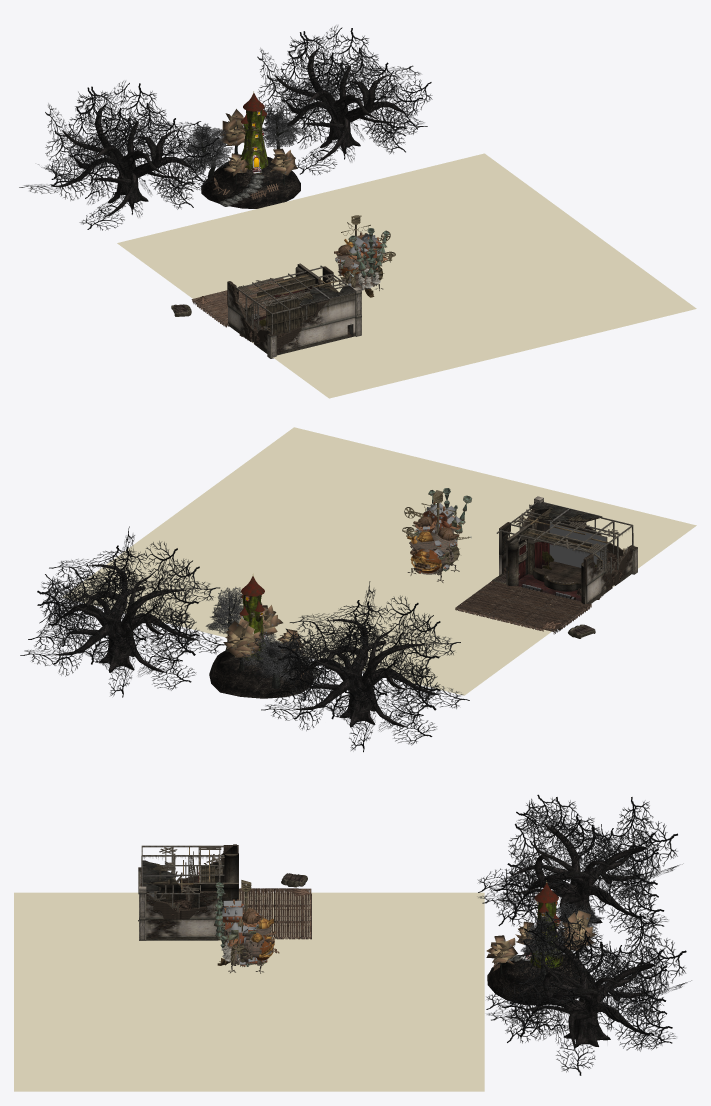
3 views of the same model, one above another, from view 1: azimuth 30°, elevation 25°; view 2: azimuth 150°, elevation 25°; view 3: azimuth 270°, elevation 25° (orthographic). The views are drawn at different scales.
Parts seen in each view (by area): view 1: listy (×2), Terrain 3,12, Terrain 3,13, Terrain 2,13, Terrain 2,12, Halloween Tower, Ruined Theatre Stage, horni vetve (×2), Steampunk Chateau Mobile, dolni vetve (×2), TLG - ForrestTheater-Backdrop, TLG - ForrestTheater-3; view 2: listy (×2), Terrain 3,12, Terrain 3,13, Terrain 2,13, Terrain 2,12, Halloween Tower, Ruined Theatre Stage, horni vetve (×2), Steampunk Chateau Mobile, dolni vetve (×2), Wooden Deck with Pier (×5), Magic Giant Oak Tree Black (×2) (+2 smaller); view 3: listy (×2), Terrain 3,12, Terrain 3,13, Terrain 2,13, Terrain 2,12, Ruined Theatre Stage, Halloween Tower, horni vetve (×2), Steampunk Chateau Mobile, dolni vetve (×2), Wooden Deck with Pier (×3), Magic Giant Oak Tree Black (+2 smaller).
Part boxes in pixels (box(x1,y1,x2,y2)): listy (×2): box(19, 25, 432, 230); Terrain 3,12: box(407, 231, 696, 353); Terrain 3,13: box(301, 153, 590, 275); Terrain 2,13: box(117, 198, 406, 298); Terrain 2,12: box(252, 276, 512, 398); Halloween Tower: box(183, 91, 304, 208); Ruined Theatre Stage: box(227, 263, 361, 358); horni vetve (×2): box(61, 48, 390, 178); Steampunk Chateau Mobile: box(334, 215, 395, 297); dolni vetve (×2): box(51, 93, 406, 217); TLG - ForrestTheater-Backdrop: box(266, 292, 316, 334); TLG - ForrestTheater-3: box(301, 323, 330, 349); listy (×2): box(20, 526, 469, 752); Terrain 3,12: box(178, 427, 494, 561); Terrain 3,13: box(62, 512, 378, 639); Terrain 2,13: box(270, 561, 551, 695); Terrain 2,12: box(379, 476, 696, 586); Halloween Tower: box(205, 573, 319, 698); Ruined Theatre Stage: box(496, 496, 637, 603); horni vetve (×2): box(69, 564, 431, 692); Steampunk Chateau Mobile: box(402, 488, 471, 582); dolni vetve (×2): box(52, 598, 440, 727); Wooden Deck with Pier (×5): box(456, 581, 590, 631); Magic Giant Oak Tree Black (×2): box(98, 637, 375, 727); listy (×2): box(477, 794, 691, 1075); Terrain 3,12: box(14, 992, 249, 1091); Terrain 3,13: box(249, 992, 484, 1091); Terrain 2,13: box(249, 892, 484, 991); Terrain 2,12: box(14, 892, 249, 991); Ruined Theatre Stage: box(138, 844, 238, 940); Halloween Tower: box(486, 880, 604, 1005); horni vetve (×2): box(508, 823, 655, 1012); Steampunk Chateau Mobile: box(214, 880, 279, 973); dolni vetve (×2): box(509, 868, 650, 1050); Wooden Deck with Pier (×3): box(239, 888, 311, 936); Magic Giant Oak Tree Black: box(563, 1014, 610, 1046).
Size of what is drawn, in the model's own units: 142 by 39.55 by 186.
Materials: 176 (165 with a texture image).
